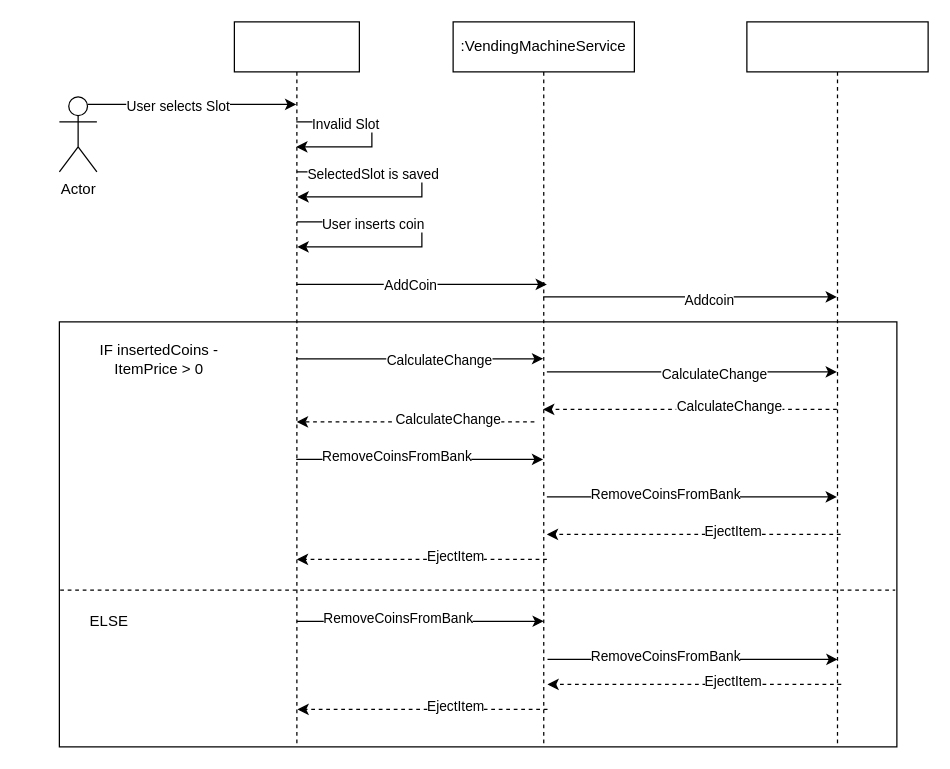
Some shapes in this 950 by 769 pixel diagram are drawn without their labels. The box of each missing label's shape, as (x1, y1, x2, y2) in pixels:
:Program.cs: (233, 21, 359, 747)
:VendingMachineRepo: (746, 21, 928, 747)
